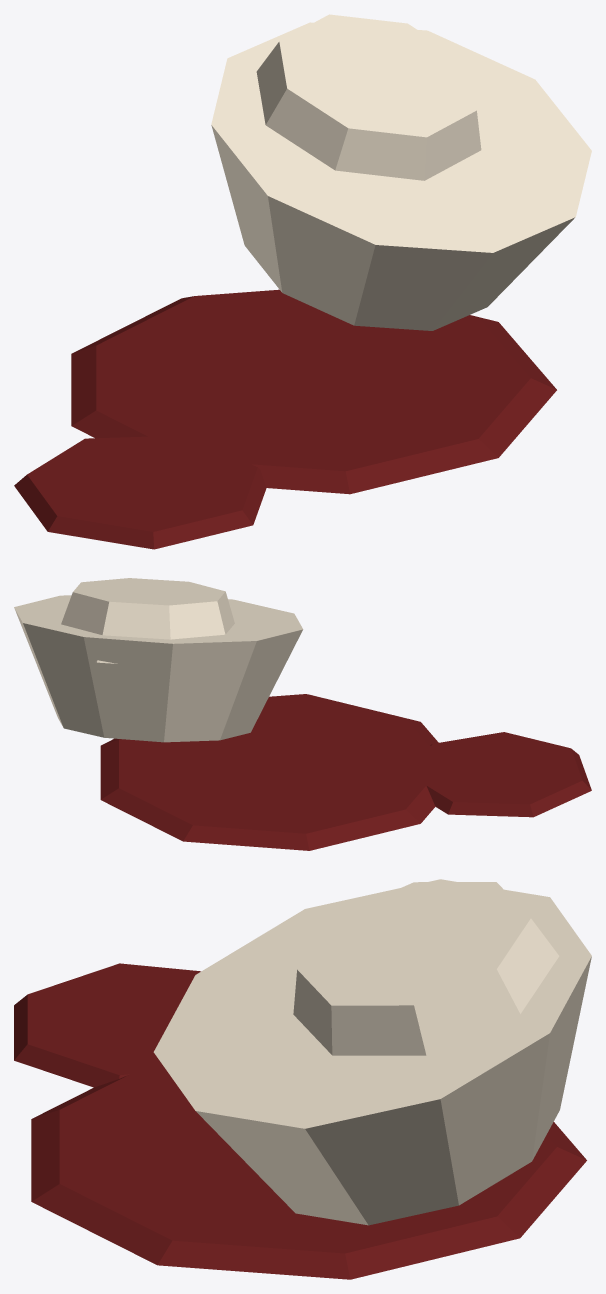
Rendered from prop_arena_cup_down.glb.
The picture shows the model from 3 angles, top to bottom: view 1: azimuth 30°, elevation 25°; view 2: azimuth 150°, elevation 25°; view 3: azimuth 270°, elevation 25°; orthographic projection. The views are drawn at different scales.
Parts seen in each view (by area): view 1: prop_arena_cup_down; view 2: prop_arena_cup_down; view 3: prop_arena_cup_down.
Boxes of the visible parts, x1=… form: prop_arena_cup_down: x1=14, y1=14, x2=591, y2=549; prop_arena_cup_down: x1=14, y1=578, x2=591, y2=850; prop_arena_cup_down: x1=14, y1=879, x2=591, y2=1279.
Size of the model in its own units: 1.1 by 0.4551 by 0.7664.
